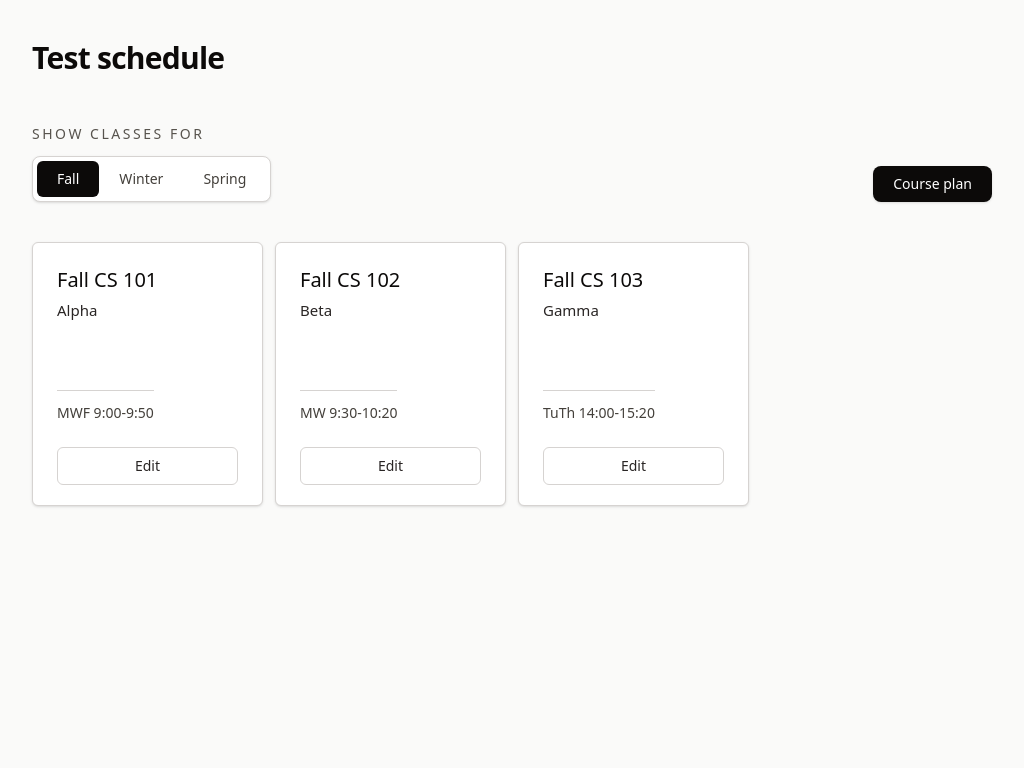
TermPage time conflicts › shows field feedback as course form values become invalid
This screenshot has width=1024, height=768.
Click the 1st button "Edit" at (148, 466), box [57,447,238,485]
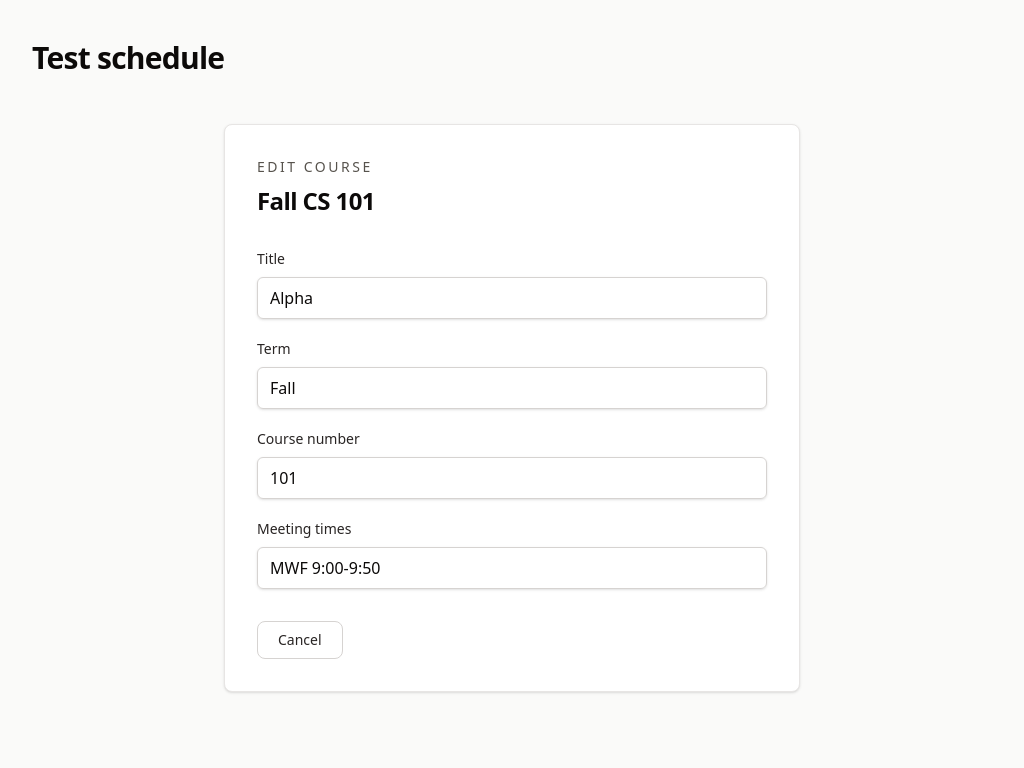
Replace the text in the field labelled "Title" with "X" at (512, 298), box [257,277,767,319]
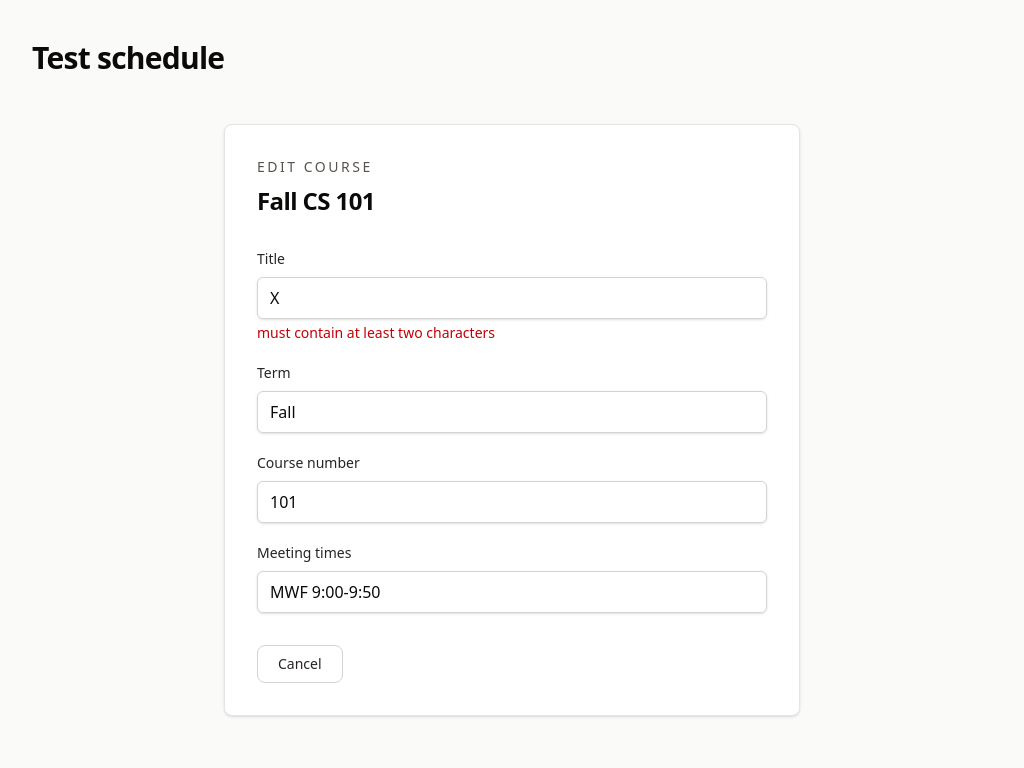
Replace the text in the field labelled "Meeting times" with "MWF" at (512, 592), box [257,571,767,613]
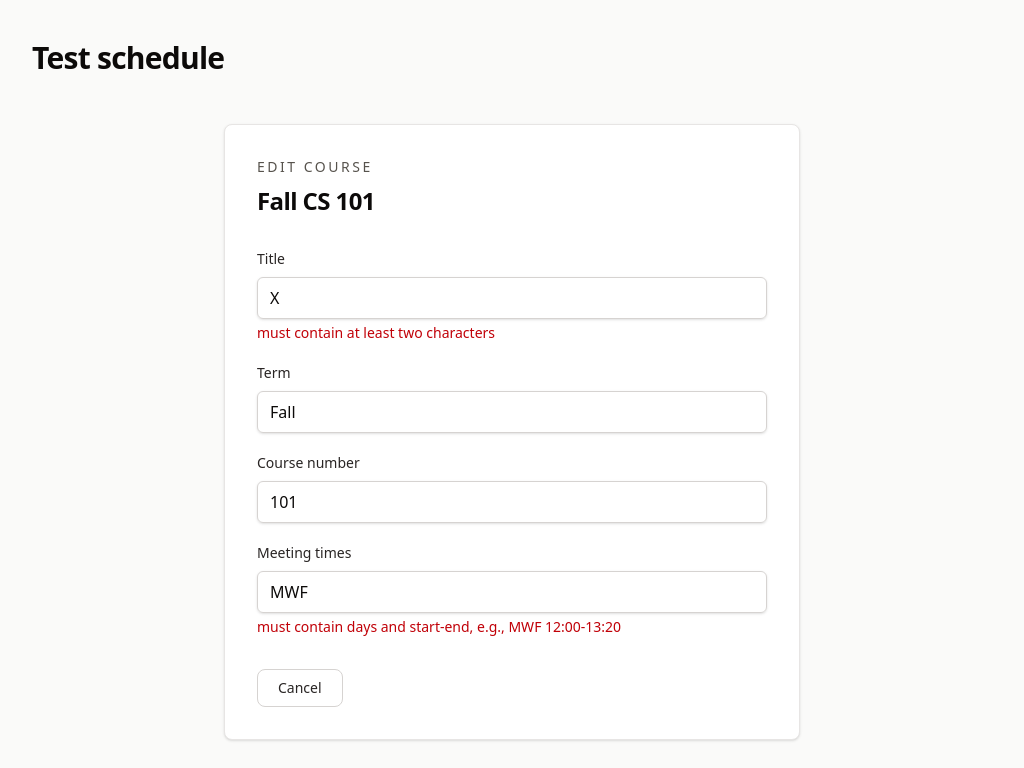
Check: the text "must contain at least two characters" is shown, box [257,323,495,342]
Check: the text "must contain days and start-end, e.g., MWF 12:00-13:20" is shown, box [257,617,621,636]
